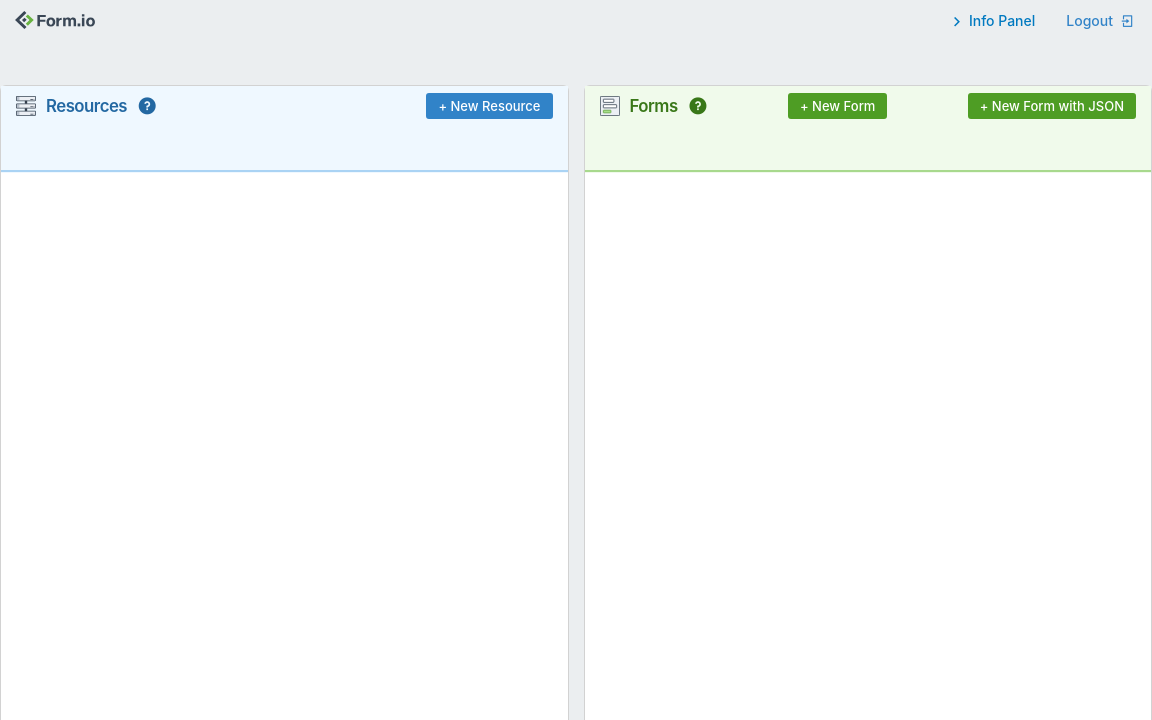
Forms help icon documentation should exists, have a link to resources documentation, and clicking on forms help icon should open up help documentation
Click the button with class "help" next to "Forms" at point(697, 106), box top-left (687, 96), bottom-right (708, 116)
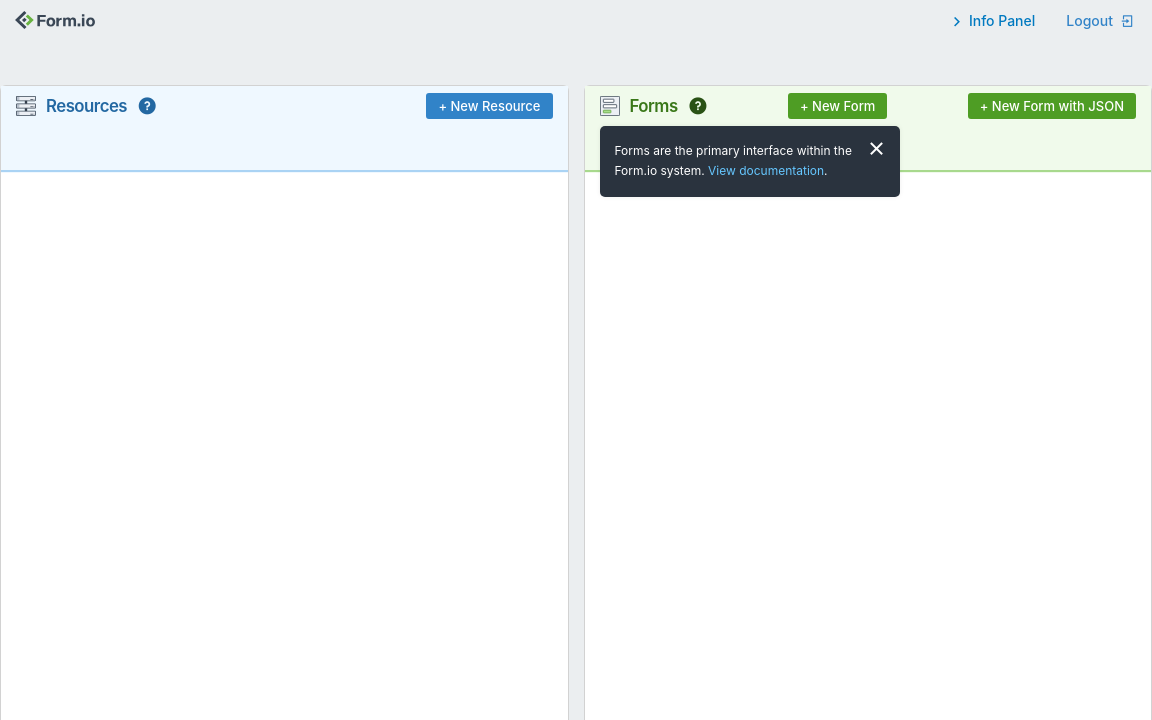
Expected: the element with class "help-bubble" is shown, top-left (600, 126), bottom-right (900, 197)
